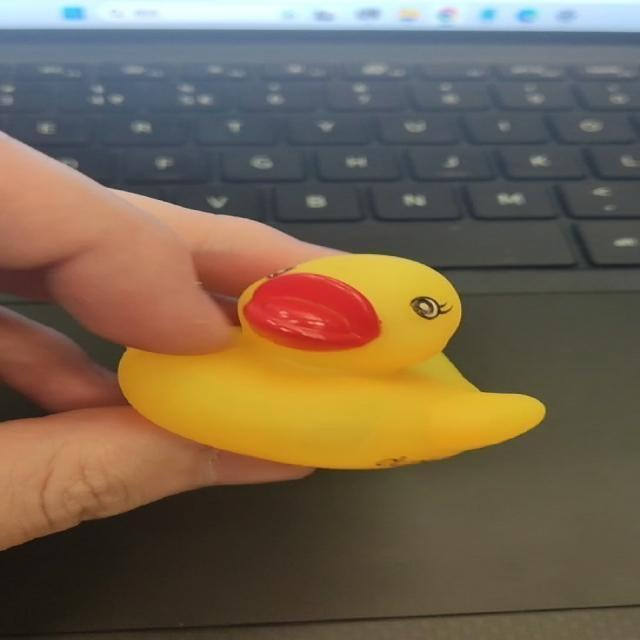rubber-duck: (118, 253, 543, 467)
